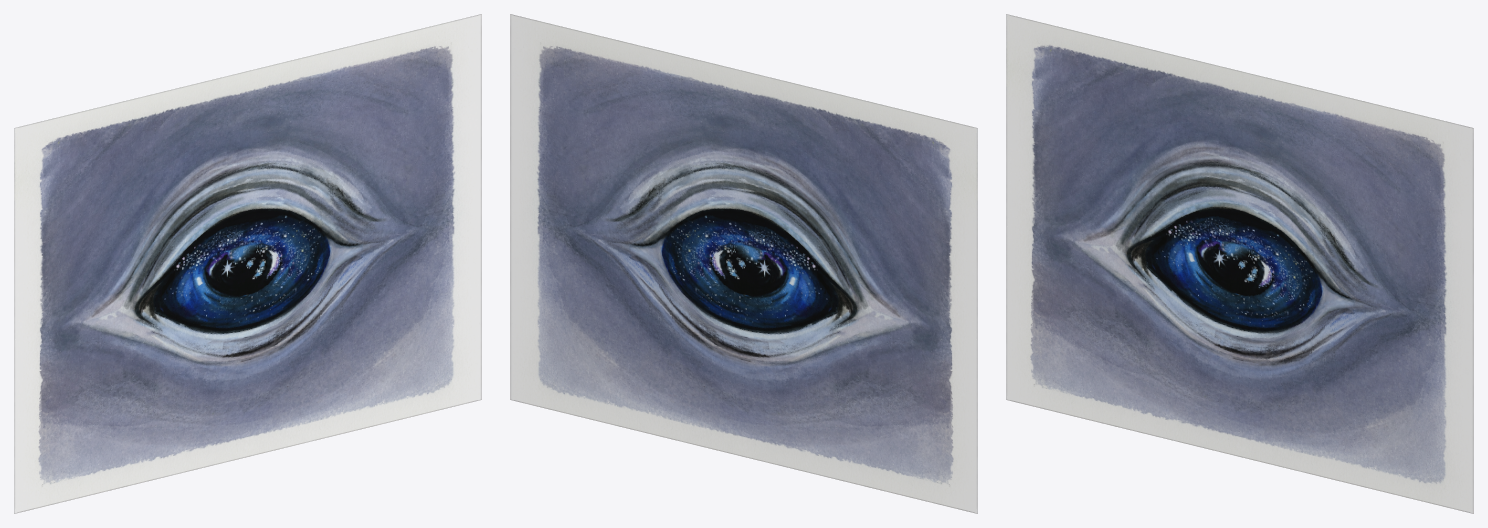
The model's file is whaleface.glb.
3 renders of one model, left to right at view 1: azimuth 30°, elevation 25°; view 2: azimuth 150°, elevation 25°; view 3: azimuth 330°, elevation 25°, orthographic.
Visible parts, largest first — view 1: whaleFace, whaleEye; view 2: whaleFace, whaleEye; view 3: whaleFace, whaleEye.
Part boxes in pixels (x1=…): whaleFace: x1=14, y1=14, x2=481, y2=513; whaleEye: x1=155, y1=209, x2=329, y2=332; whaleFace: x1=510, y1=14, x2=977, y2=513; whaleEye: x1=662, y1=209, x2=836, y2=332; whaleFace: x1=1006, y1=14, x2=1473, y2=513; whaleEye: x1=1147, y1=207, x2=1321, y2=331.
Bounding box in the file's own units: 2.82 × 2.23 × 6.71e-09.
Materials: 2 (2 with a texture image).
